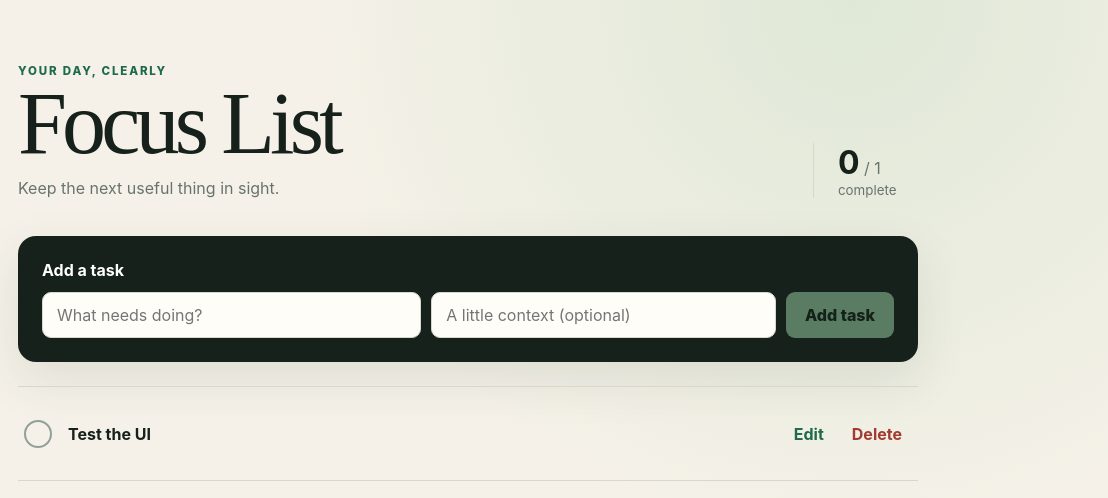
Scenario: Home › loads and completes a Todo
The image size is (1108, 498).
expect the text "Test the UI" is shown: met, box [68,424,151,444]
Click the button named "Mark Test the UI complete".
click(38, 434)  # box [24,420,52,448]
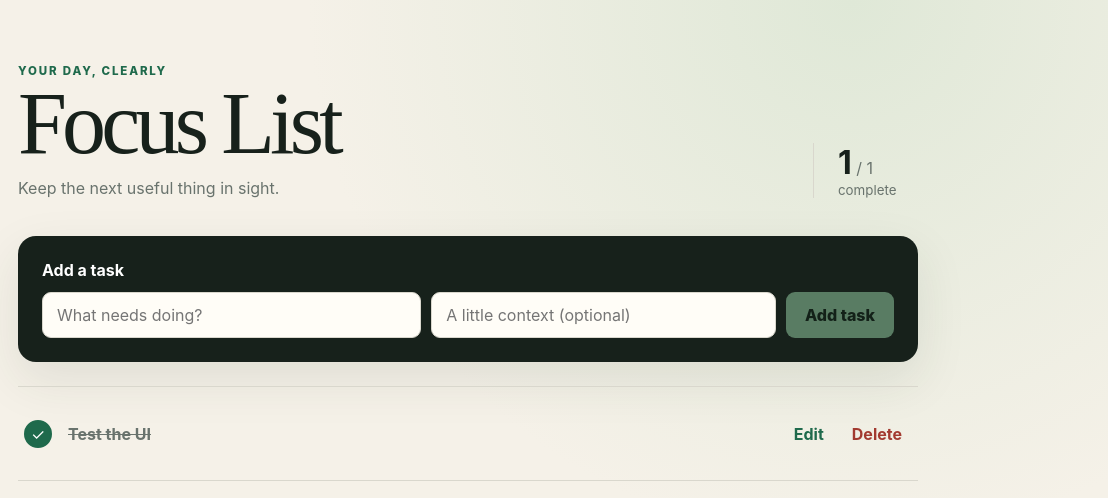
expect the button named "Mark Test the UI incomplete" is shown: met, box [24,420,52,448]
